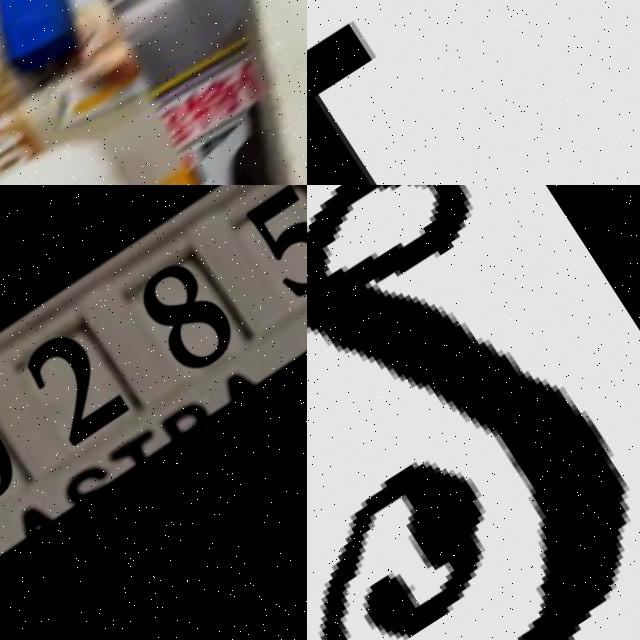0: (0, 378, 34, 524)
2: (0, 310, 136, 456)
5: (221, 185, 307, 313)
8: (112, 242, 250, 389)
L: (307, 0, 640, 185)
Q: (0, 111, 200, 185)
T: (0, 0, 190, 98)
